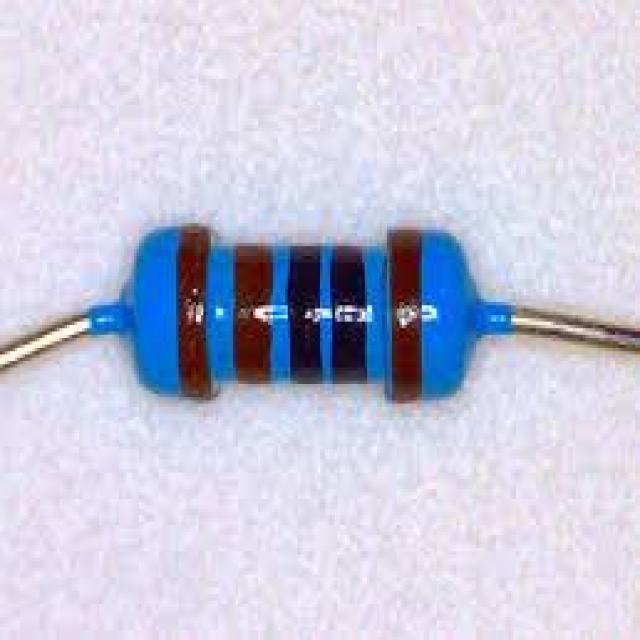Resistor: (127, 226, 476, 397)
purple: (332, 247, 367, 380), (291, 251, 318, 378)
red: (177, 230, 214, 400), (390, 234, 422, 400), (236, 245, 268, 382)
